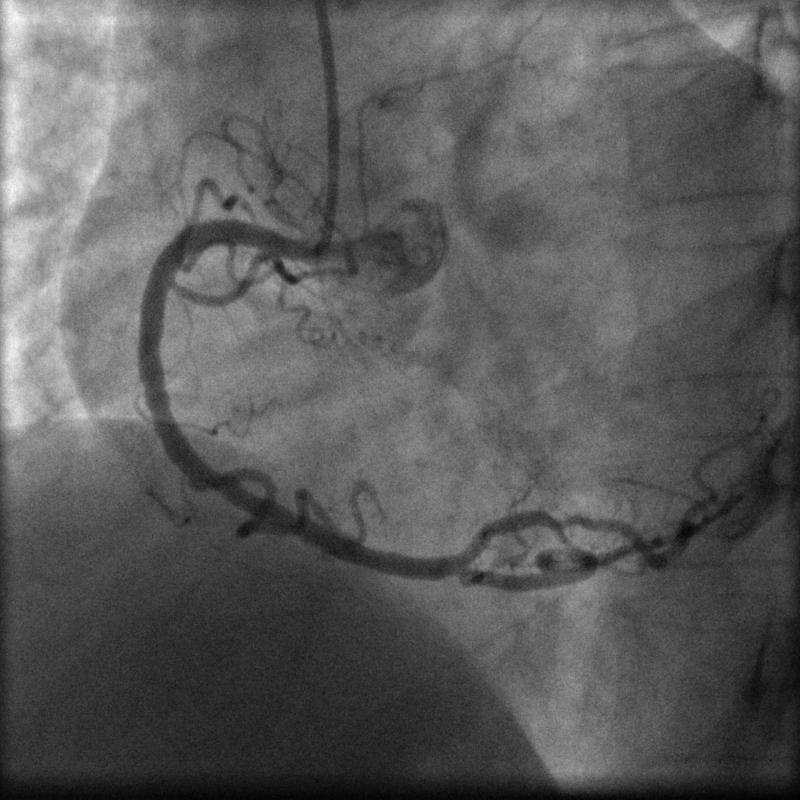Stenosis: (538, 499, 599, 531)
